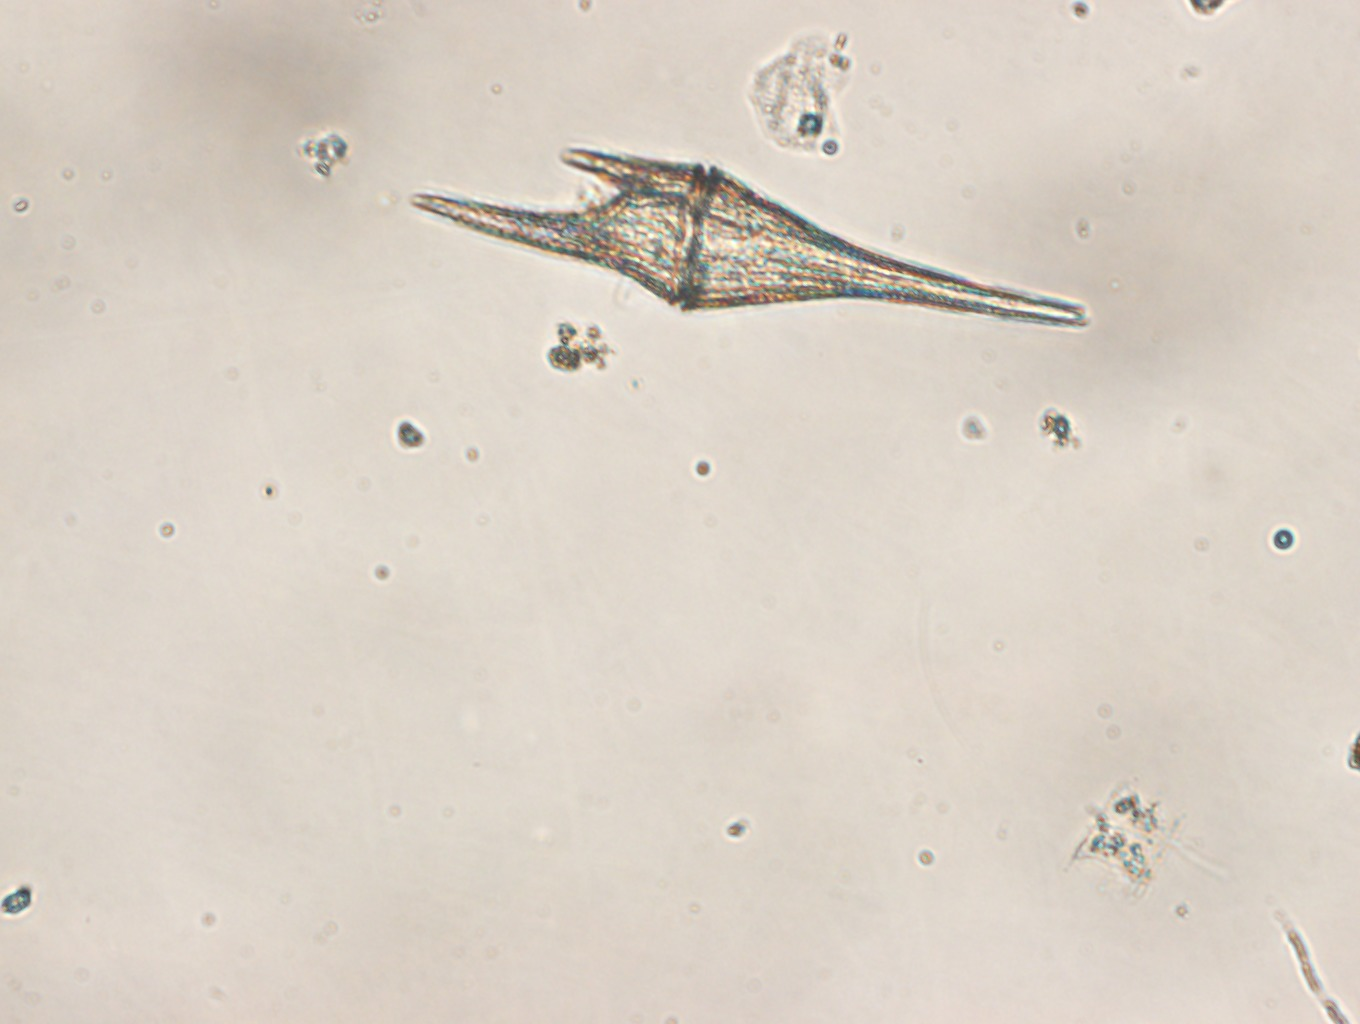ceratium furca: (409, 148, 1089, 331)
